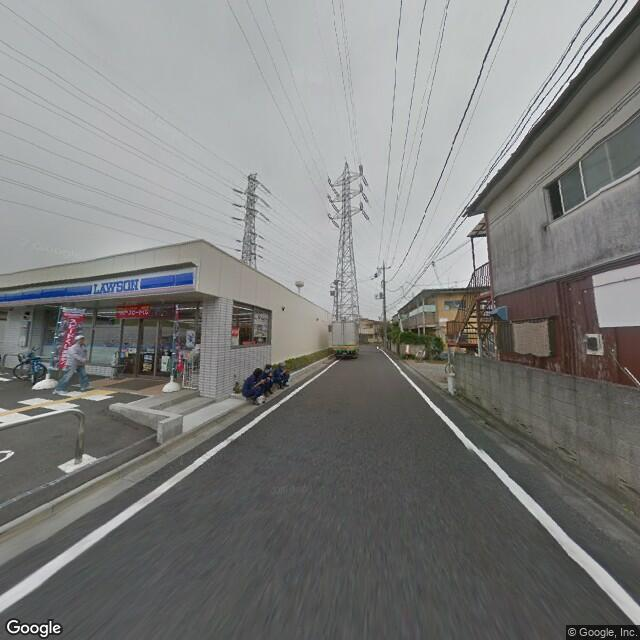lawson: (1, 258, 201, 307)
